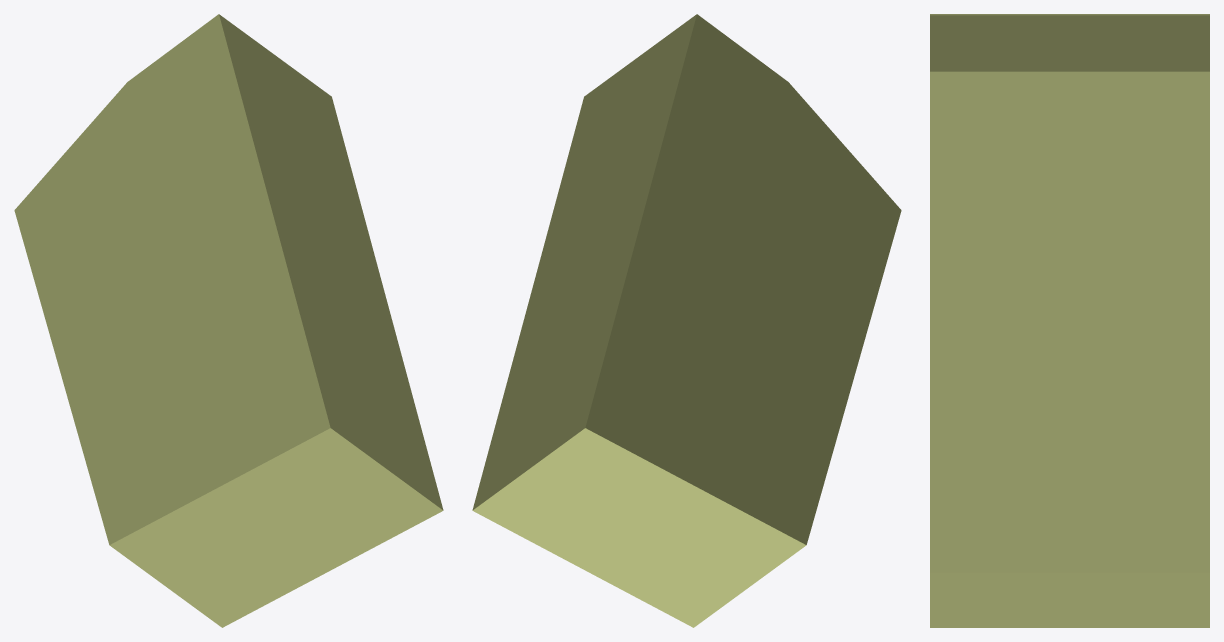
3 views of the same model, side by side, from view 1: azimuth 30°, elevation 25°; view 2: azimuth 150°, elevation 25°; view 3: azimuth 270°, elevation 25° (orthographic). The views are drawn at different scales.
Parts seen in each view (by area): view 1: 0_3_0_2_1_2_0_2_1_2; view 2: 0_3_0_2_1_2_0_2_1_2; view 3: 0_3_0_2_1_2_0_2_1_2.
Part boxes in pixels (left/top/right/bottom): 0_3_0_2_1_2_0_2_1_2: left=14, top=14, right=443, bottom=627; 0_3_0_2_1_2_0_2_1_2: left=472, top=14, right=901, bottom=627; 0_3_0_2_1_2_0_2_1_2: left=930, top=14, right=1209, bottom=627.
Bounding box in the file's own units: 9.7 × 14.79 × 6.
